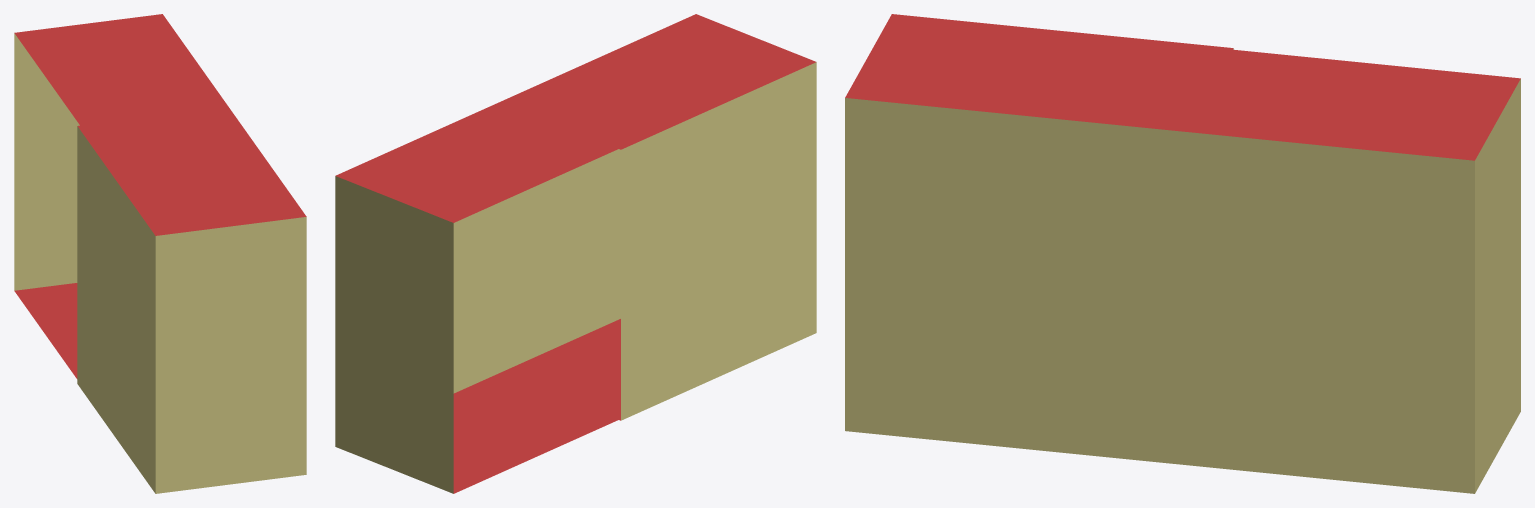
The picture shows the model from 3 angles, left to right: view 1: azimuth 30°, elevation 25°; view 2: azimuth 150°, elevation 25°; view 3: azimuth 270°, elevation 25°; orthographic projection. The views are drawn at different scales.
Parts seen in each view (by area): view 1: group_4, group_3, group_5; view 2: group_4, group_3, group_5; view 3: group_4, group_3.
Boxes of the visible parts, x1,y1,x2,y2 form: group_4: (14, 33, 306, 493); group_3: (14, 14, 306, 235); group_5: (14, 283, 77, 378); group_4: (335, 62, 816, 493); group_3: (335, 14, 815, 222); group_5: (453, 319, 620, 493); group_4: (845, 48, 1520, 493); group_3: (845, 14, 1520, 160).
Bounding box in the file's own units: 6.45 × 12.55 × 6.83.
